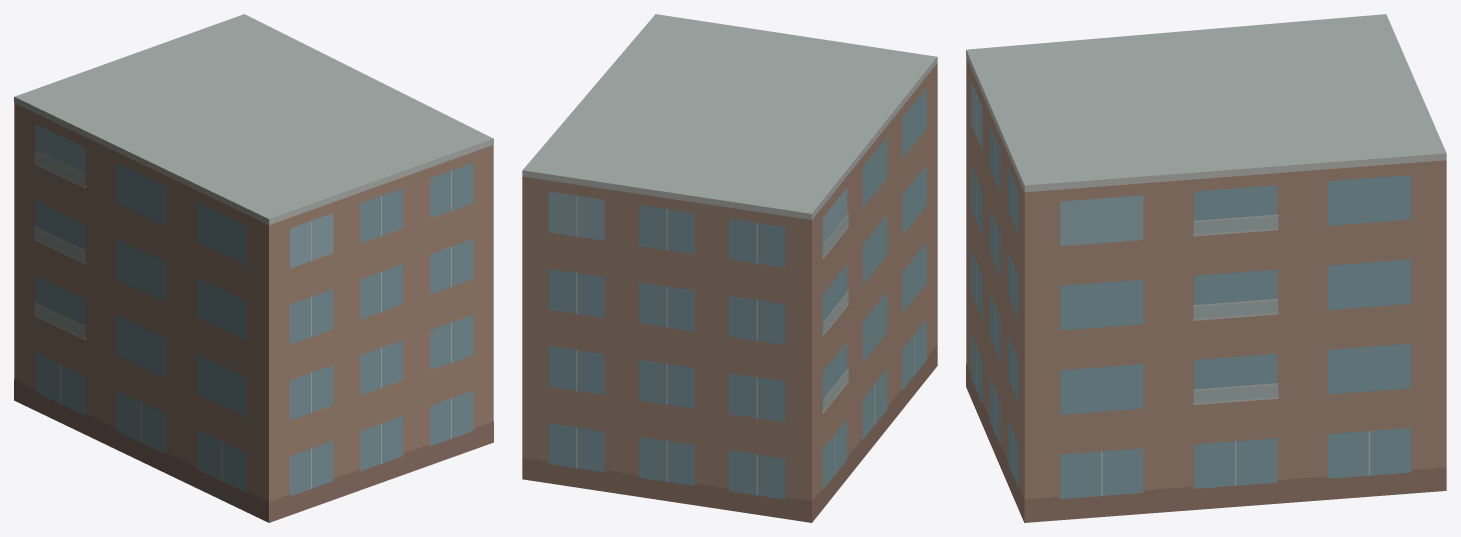
The model's file is survey-upis-32638538.glb.
The picture shows the model from 3 angles, left to right: view 1: azimuth 30°, elevation 25°; view 2: azimuth 150°, elevation 25°; view 3: azimuth 270°, elevation 25°; orthographic projection. The views are drawn at different scales.
Parts seen in each view (by area): view 1: survey-upis-32638538.tmp; view 2: survey-upis-32638538.tmp; view 3: survey-upis-32638538.tmp.
Boxes of the visible parts, left/top/right/bottom form: survey-upis-32638538.tmp: left=14, top=14, right=493, bottom=522; survey-upis-32638538.tmp: left=522, top=14, right=937, bottom=522; survey-upis-32638538.tmp: left=966, top=14, right=1446, bottom=522.
Bounding box in the file's own units: 13.32 × 12.2 × 15.76.
